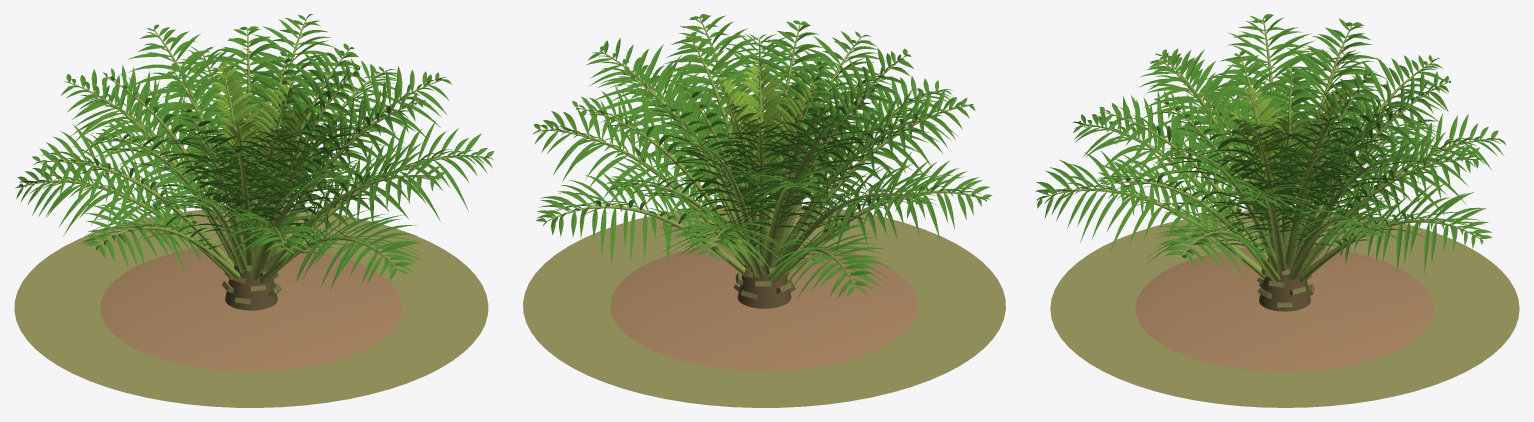
File: kelapa-sawit-tbm2.glb
3 renders of one model, left to right at view 1: azimuth 30°, elevation 25°; view 2: azimuth 150°, elevation 25°; view 3: azimuth 270°, elevation 25°, orthographic. The views are drawn at different scales.
Visible parts, largest first — view 1: rumput, piringan, anak_daun_33, anak_daun_26, anak_daun_30, anak_daun_31, anak_daun_34, anak_daun_22, anak_daun_25, anak_daun_21, anak_daun_16, anak_daun_28 (+38 smaller); view 2: rumput, piringan, anak_daun_32, anak_daun_34, anak_daun_27, anak_daun_31, anak_daun_23, anak_daun_22, anak_daun_26, anak_daun_29, anak_daun_19, anak_daun_18 (+41 smaller); view 3: rumput, piringan, anak_daun_33, anak_daun_32, anak_daun_30, anak_daun_13, anak_daun_28, anak_daun_29, anak_daun_25, anak_daun_27, anak_daun_21, anak_daun_20 (+38 smaller).
Boxes of the visible parts, x1=… form: rumput: x1=14, y1=209, x2=488, y2=407; piringan: x1=100, y1=245, x2=402, y2=371; anak_daun_33: x1=281, y1=209, x2=425, y2=291; anak_daun_26: x1=32, y1=124, x2=197, y2=233; anak_daun_30: x1=315, y1=120, x2=494, y2=228; anak_daun_31: x1=81, y1=196, x2=218, y2=276; anak_daun_34: x1=15, y1=142, x2=187, y2=244; anak_daun_22: x1=294, y1=64, x2=451, y2=201; anak_daun_25: x1=295, y1=141, x2=445, y2=237; anak_daun_21: x1=61, y1=69, x2=208, y2=205; anak_daun_16: x1=127, y1=24, x2=249, y2=184; anak_daun_28: x1=209, y1=202, x2=335, y2=264; rumput: x1=523, y1=205, x2=1005, y2=407; piringan: x1=610, y1=243, x2=918, y2=370; anak_daun_32: x1=536, y1=171, x2=708, y2=268; anak_daun_34: x1=764, y1=223, x2=893, y2=299; anak_daun_27: x1=533, y1=99, x2=707, y2=219; anak_daun_31: x1=824, y1=151, x2=992, y2=242; anak_daun_23: x1=813, y1=88, x2=975, y2=212; anak_daun_22: x1=586, y1=38, x2=728, y2=190; anak_daun_26: x1=792, y1=163, x2=939, y2=254; anak_daun_29: x1=659, y1=203, x2=784, y2=273; anak_daun_19: x1=572, y1=85, x2=723, y2=209; anak_daun_18: x1=800, y1=87, x2=942, y2=216; rumput: x1=1050, y1=211, x2=1519, y2=407; piringan: x1=1135, y1=246, x2=1434, y2=371; anak_daun_33: x1=1035, y1=150, x2=1218, y2=252; anak_daun_32: x1=1335, y1=182, x2=1492, y2=274; anak_daun_30: x1=1146, y1=194, x2=1280, y2=282; anak_daun_13: x1=1276, y1=18, x2=1388, y2=185; anak_daun_28: x1=1072, y1=96, x2=1235, y2=217; anak_daun_29: x1=1338, y1=113, x2=1505, y2=221; anak_daun_25: x1=1097, y1=148, x2=1244, y2=237; anak_daun_27: x1=1277, y1=181, x2=1405, y2=262; anak_daun_21: x1=1318, y1=55, x2=1447, y2=198; anak_daun_20: x1=1099, y1=89, x2=1241, y2=215.
Bounding box in the file's own units: 4.8 × 2.67 × 4.96.
